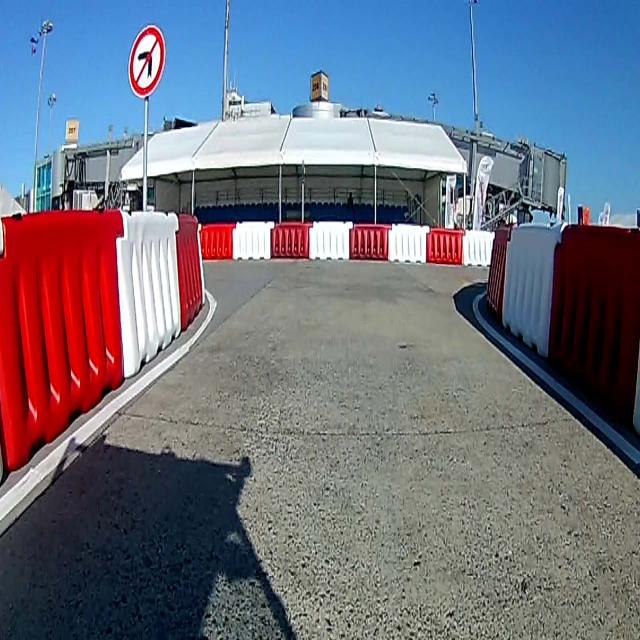soladonulmez: (126, 24, 164, 96)
